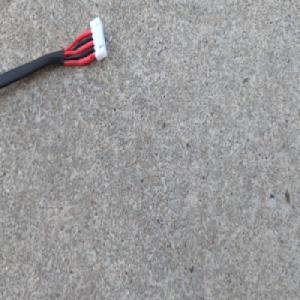Wire: (0, 13, 109, 95)
